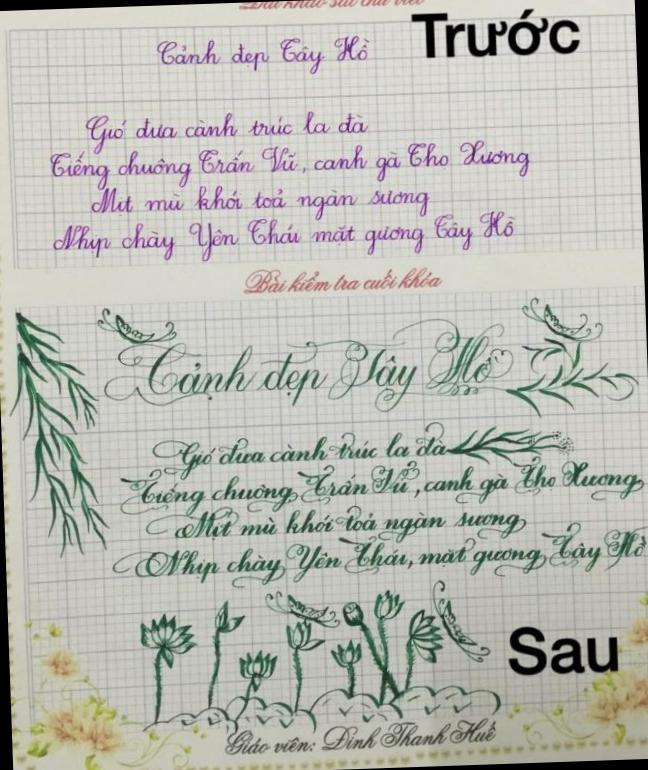text: (101, 312, 516, 424), (108, 518, 648, 595), (112, 451, 646, 520), (48, 206, 518, 271), (48, 134, 534, 195), (142, 494, 530, 556), (150, 418, 452, 485), (88, 174, 434, 232), (84, 102, 373, 158), (221, 714, 499, 758), (155, 32, 371, 84), (410, 2, 583, 62), (240, 260, 445, 298), (504, 621, 624, 683), (235, 0, 430, 16)
